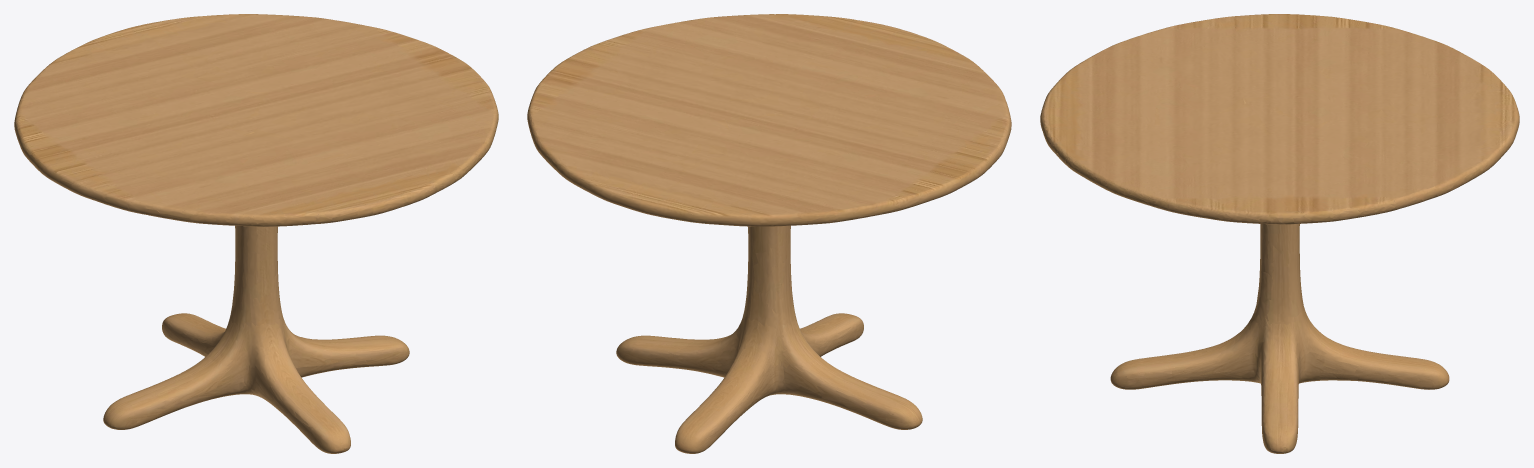
3 renders of one model, left to right at view 1: azimuth 30°, elevation 25°; view 2: azimuth 150°, elevation 25°; view 3: azimuth 270°, elevation 25°, orthographic. The views are drawn at different scales.
Parts seen in each view (by area): view 1: Mesh_0; view 2: Mesh_0; view 3: Mesh_0.
Boxes of the visible parts, <box> form: Mesh_0: <box>14,14,498,453</box>; Mesh_0: <box>527,14,1011,453</box>; Mesh_0: <box>1040,14,1519,453</box>.
Bounding box in the file's own units: 1.19 × 0.7476 × 1.19.
Materials: 1 (1 with a texture image).
